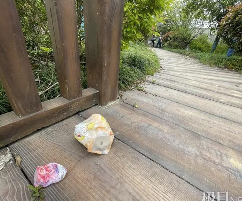garbage: (71, 113, 116, 158), (27, 161, 74, 192)
